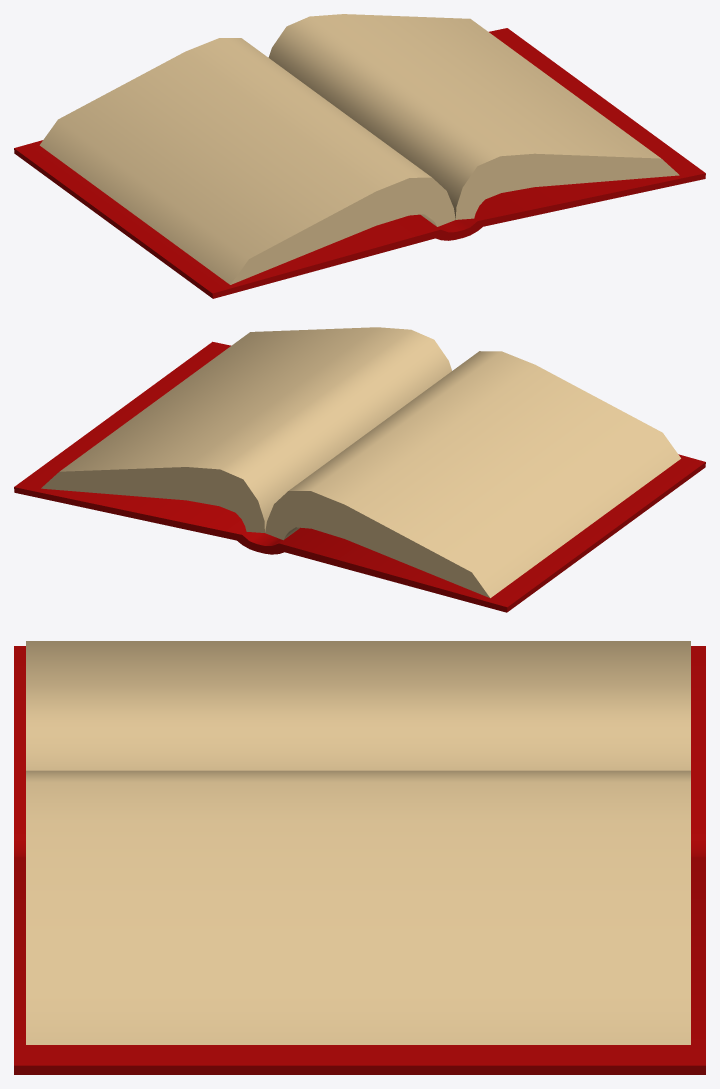
The model's file is Book02.FBX.
The picture shows the model from 3 angles, top to bottom: view 1: azimuth 30°, elevation 25°; view 2: azimuth 150°, elevation 25°; view 3: azimuth 270°, elevation 25°; orthographic projection. The views are drawn at different scales.
Visible parts, largest first — view 1: Book02; view 2: Book02; view 3: Book02.
Part boxes in pixels (x1,y1,x2,y2): Book02: (14, 14, 705, 298); Book02: (14, 327, 705, 612); Book02: (14, 641, 705, 1074).
Bounding box in the file's own units: 42.15 × 29.39 × 5.7.
